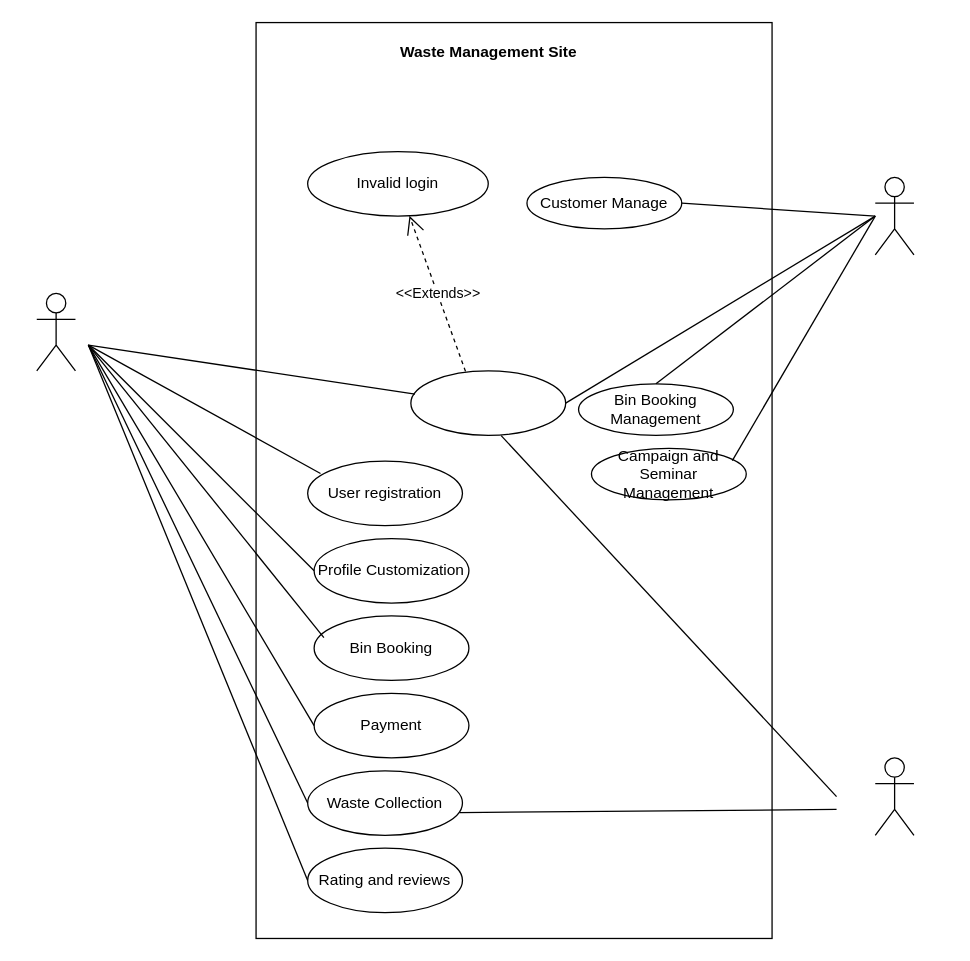
Some shapes in this 970 by 961 pixel diagram are drawn without their labels. Here are the shapes that lost their labels. From the top down, the centre of each, then its label:
At (894,215): "Admin".
At (55,331): "Customer".
At (488,402): "Login".
At (894,796): "Waste Collector".
